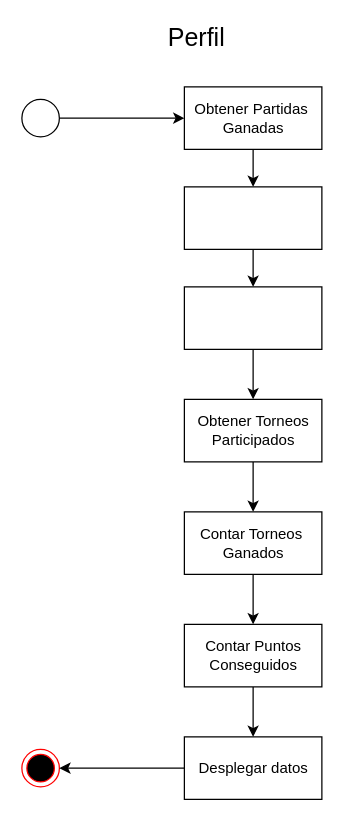
Some shapes in this 344 by 821 pixel diagram are drawn without their labels. Each missing label, with the centre of its shape:
"Obtener Partidas Empatadas" goes at pixel 252 317.
"Obtener Partidas Perdidas" goes at pixel 252 217.
